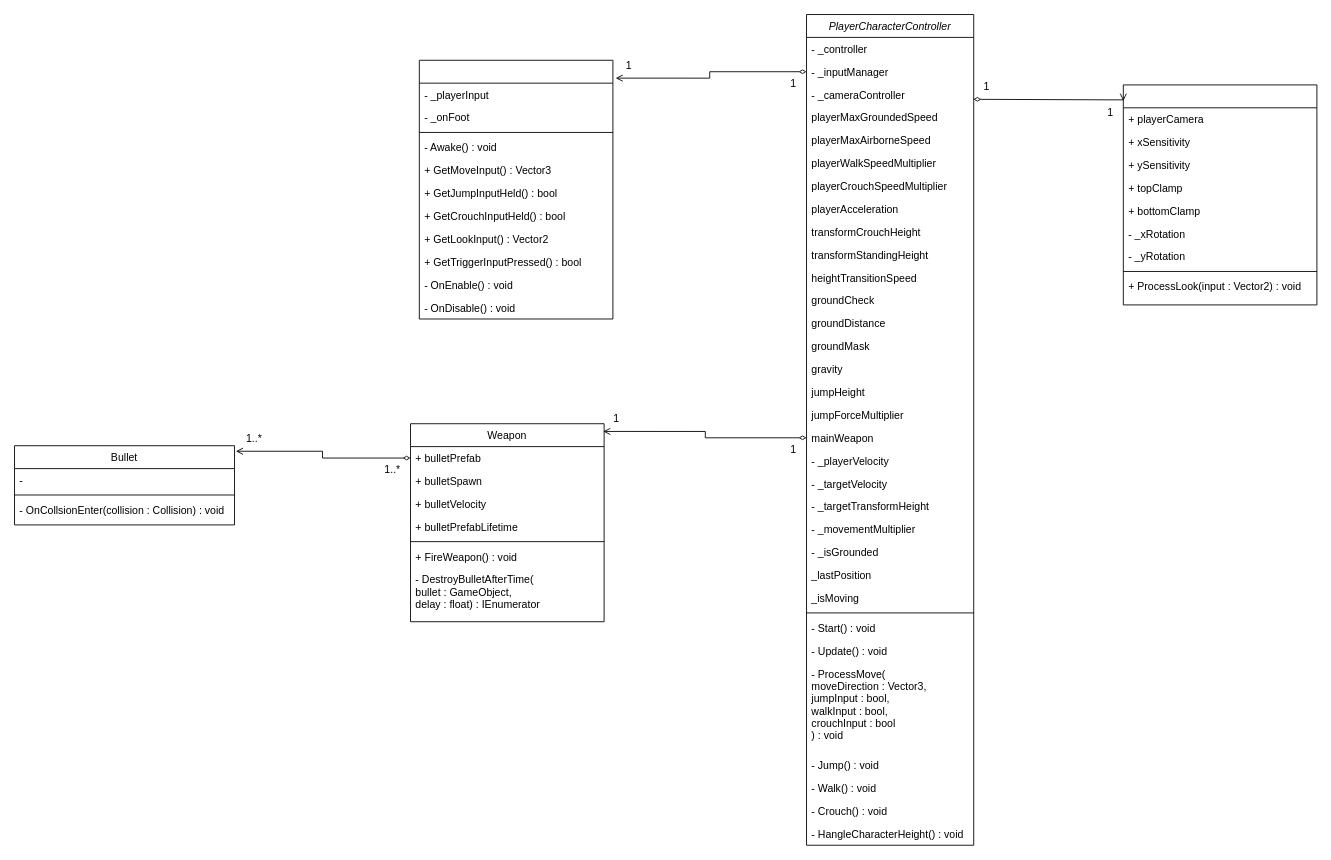
The diagram is 1331 pixels wide and 860 high, and some of its shapes have lost their labels. The box of each missing label's shape, as (x1, y1, x2, y2) in pixels:
InputManager: (418, 59, 613, 319)
PlayerCameraController: (1122, 84, 1317, 305)
